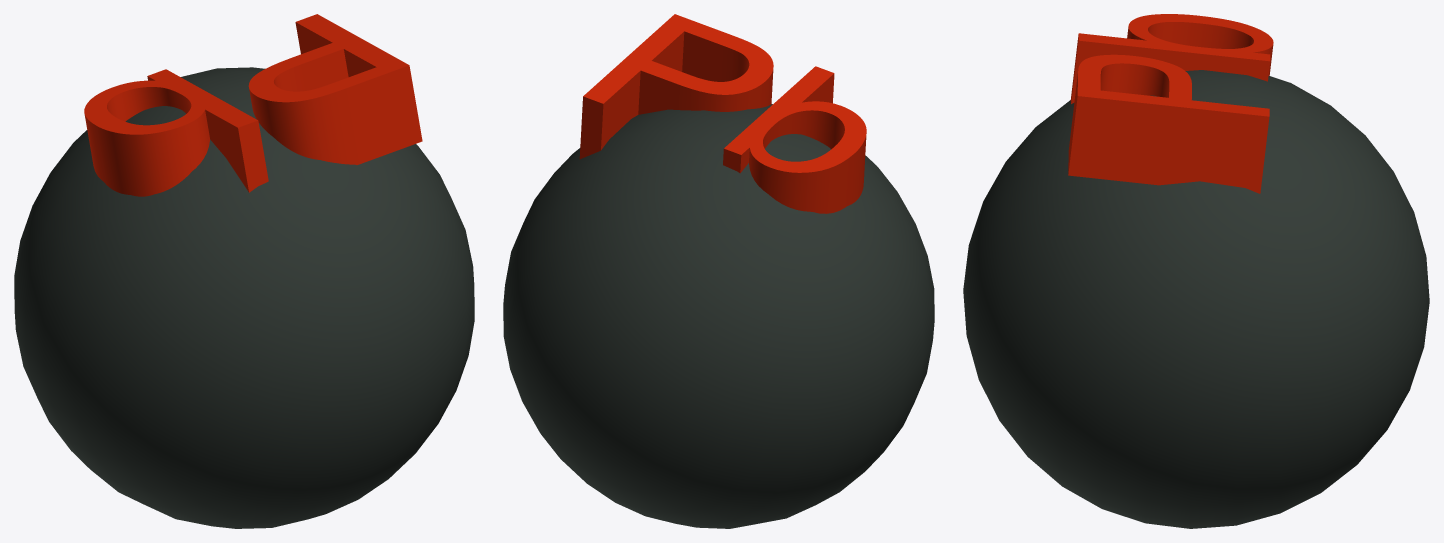
3 renders of one model, left to right at view 1: azimuth 30°, elevation 25°; view 2: azimuth 150°, elevation 25°; view 3: azimuth 270°, elevation 25°, orthographic. The views are drawn at different scales.
Visible parts, largest first — view 1: Pb; view 2: Pb; view 3: Pb.
Boxes of the visible parts, x1,y1,x2,y2 form: Pb: (14,14,474,528); Pb: (503,14,934,528); Pb: (963,14,1429,528).
Size of the model in its own units: 38.57 by 42.39 by 38.74.
